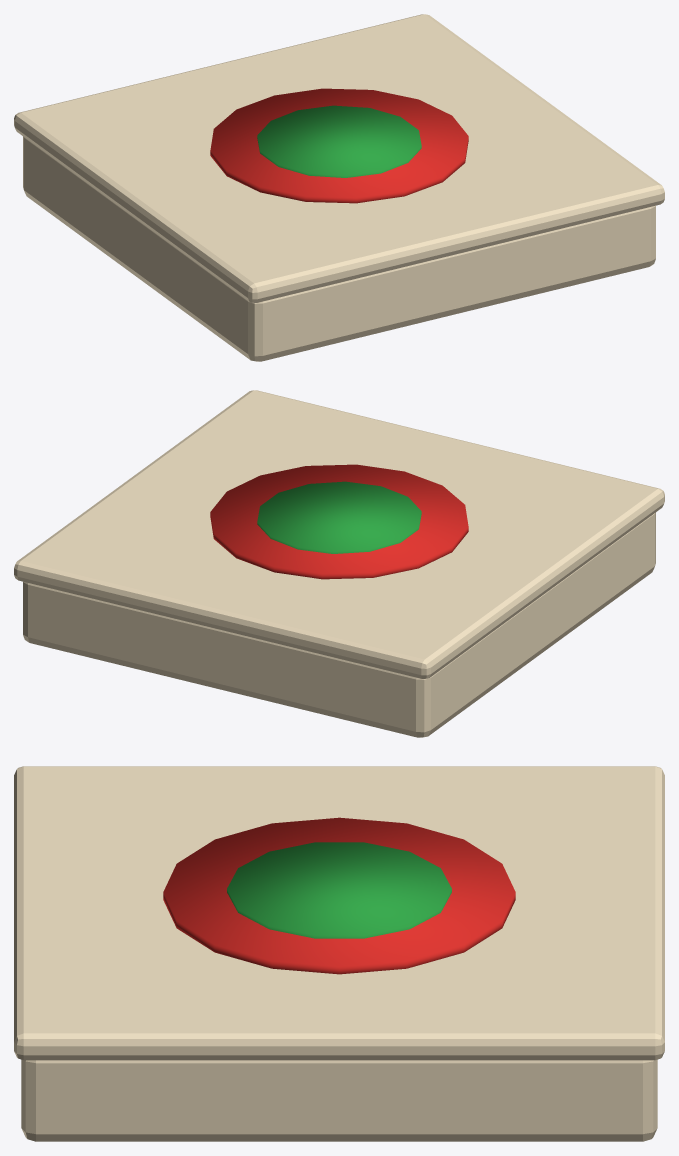
The model's file is pizza-box.glb.
3 views of the same model, one above another, from view 1: azimuth 30°, elevation 25°; view 2: azimuth 150°, elevation 25°; view 3: azimuth 270°, elevation 25° (orthographic). The views are drawn at different scales.
Parts seen in each view (by area): view 1: BoxLid, BoxBase, PizzaSeal, PizzaInner; view 2: BoxLid, BoxBase, PizzaSeal, PizzaInner; view 3: BoxLid, BoxBase, PizzaSeal, PizzaInner.
Part boxes in pixels (x1,y1,x2,y2): BoxLid: [14, 14, 664, 302]; BoxBase: [23, 136, 655, 361]; PizzaSeal: [210, 88, 468, 203]; PizzaInner: [257, 105, 421, 177]; BoxLid: [14, 390, 664, 678]; BoxBase: [23, 512, 655, 737]; PizzaSeal: [210, 464, 468, 579]; PizzaInner: [257, 481, 421, 553]; BoxLid: [14, 766, 664, 1060]; BoxBase: [21, 1059, 657, 1141]; PizzaSeal: [163, 817, 515, 974]; PizzaInner: [227, 842, 451, 938].
Size of the model in its own units: 0.266 by 0.056 by 0.266.
